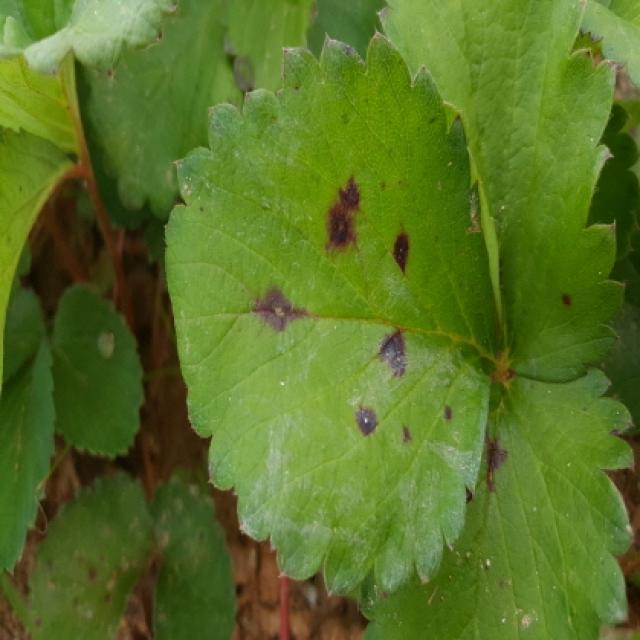Leaf Spot: (162, 28, 503, 596), (375, 0, 627, 384), (353, 367, 637, 638), (26, 468, 158, 638)
